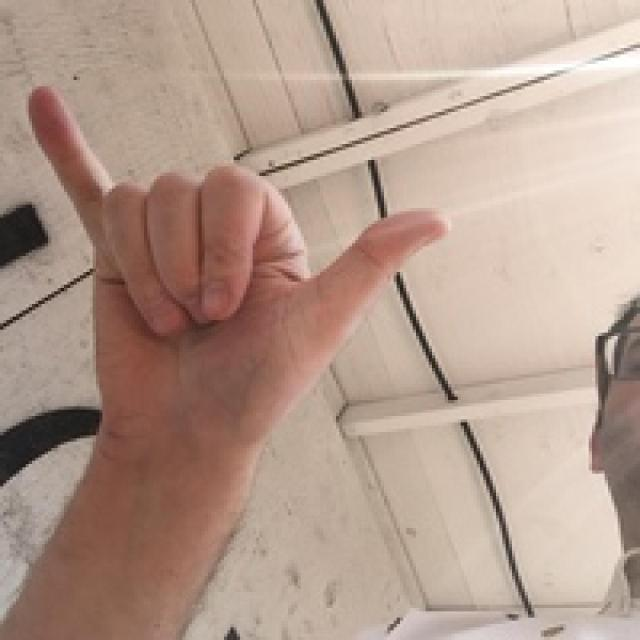Y: (10, 37, 465, 516)
